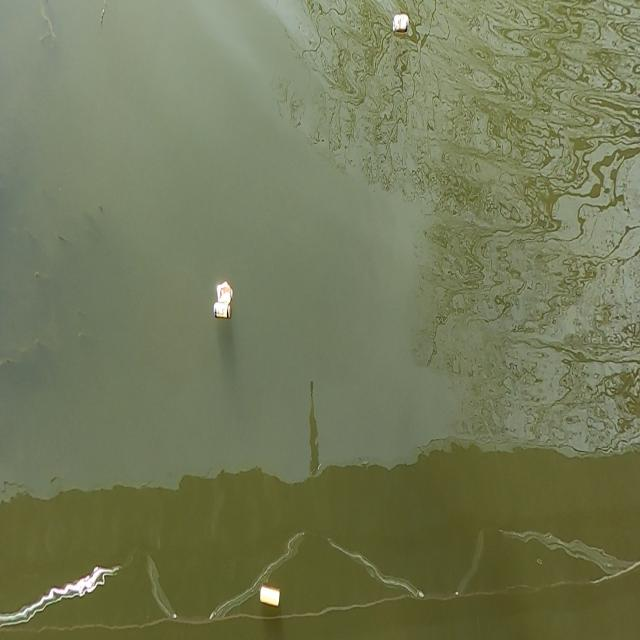Non plastique: (257, 579, 285, 614), (388, 11, 413, 36), (210, 301, 234, 322), (216, 277, 233, 303)
